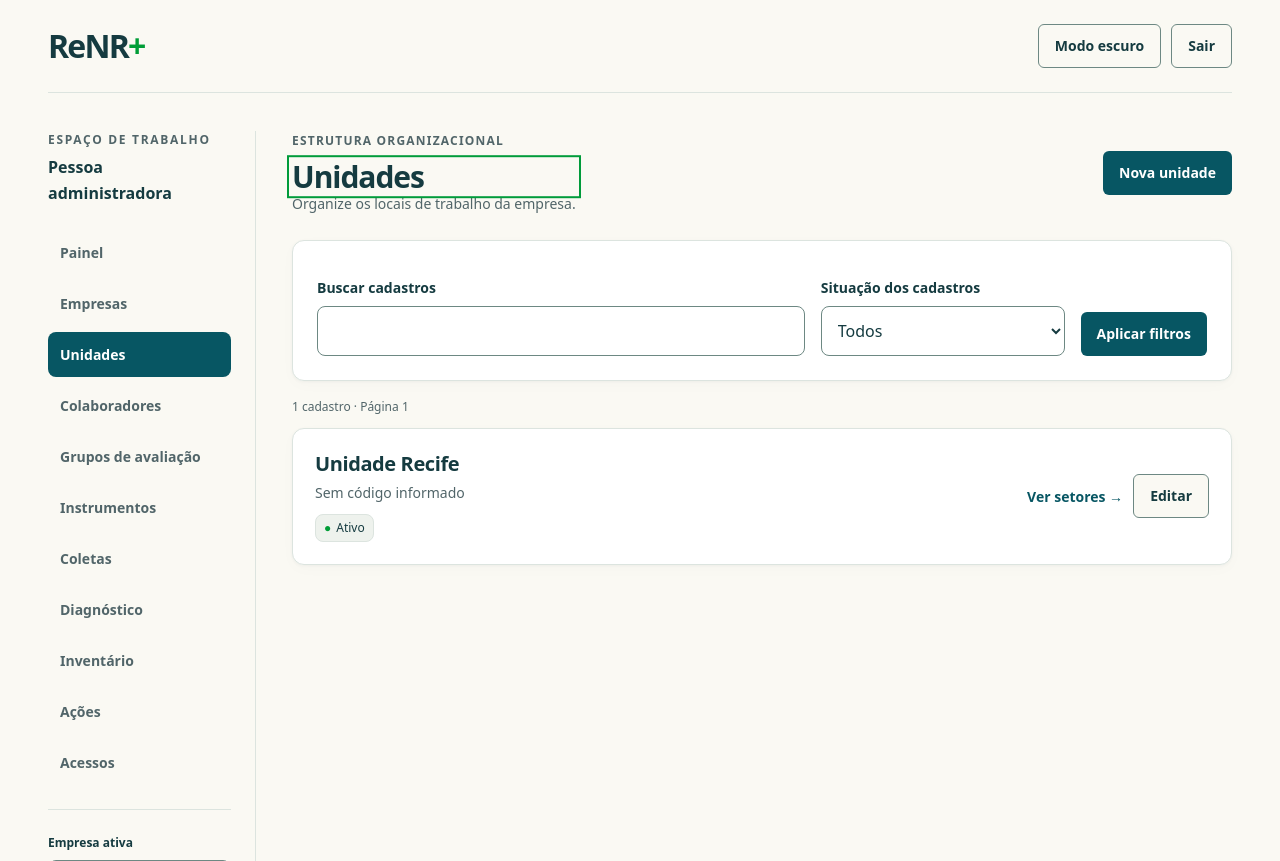
acesso e estrutura organizacional › edita uma unidade existente com PATCH
Step 1. Click the button named "Editar unidade Unidade Recife" → (1171, 496), box x1=1133 y1=474 x2=1209 y2=518
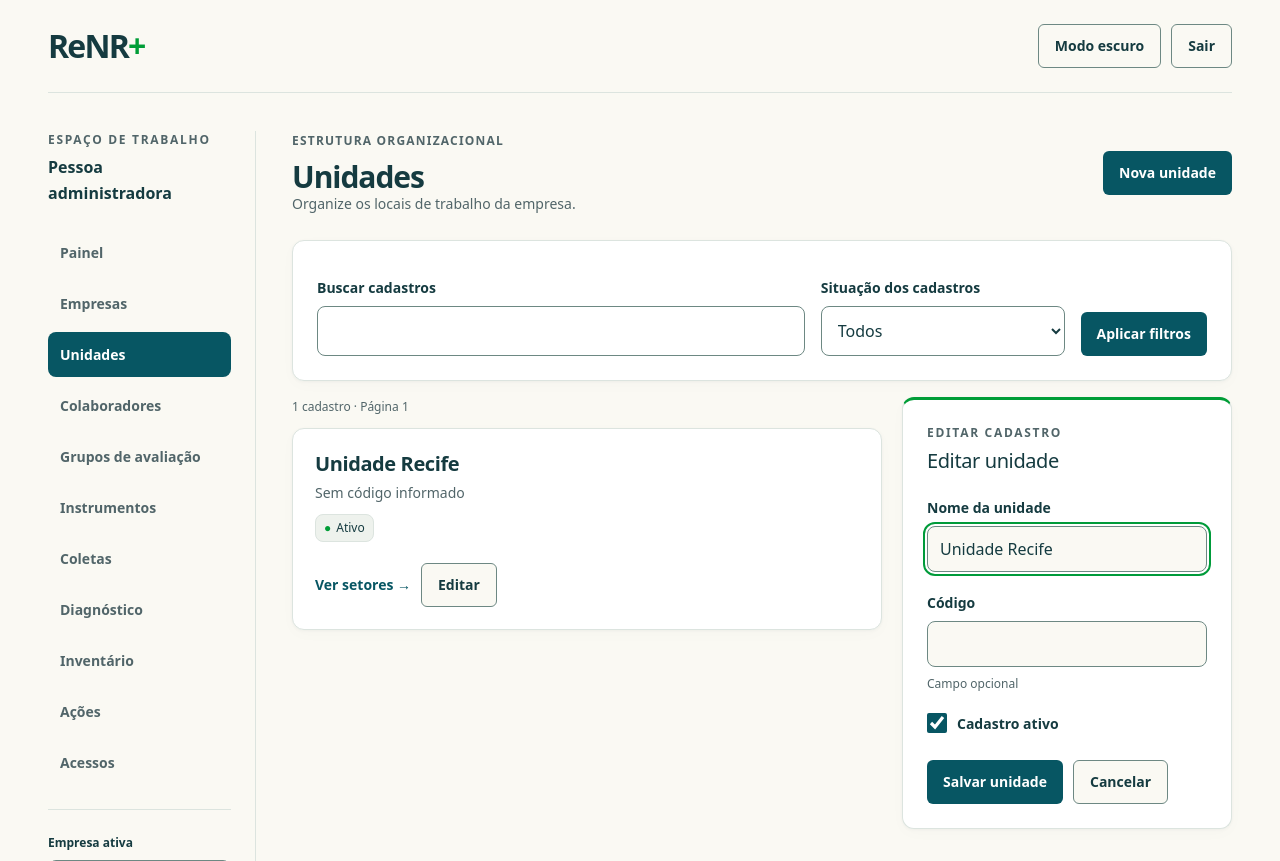
Step 2. Replace the text in the field labelled "Nome da unidade" with "Unidade Olinda" → (1067, 549), box x1=927 y1=526 x2=1207 y2=572
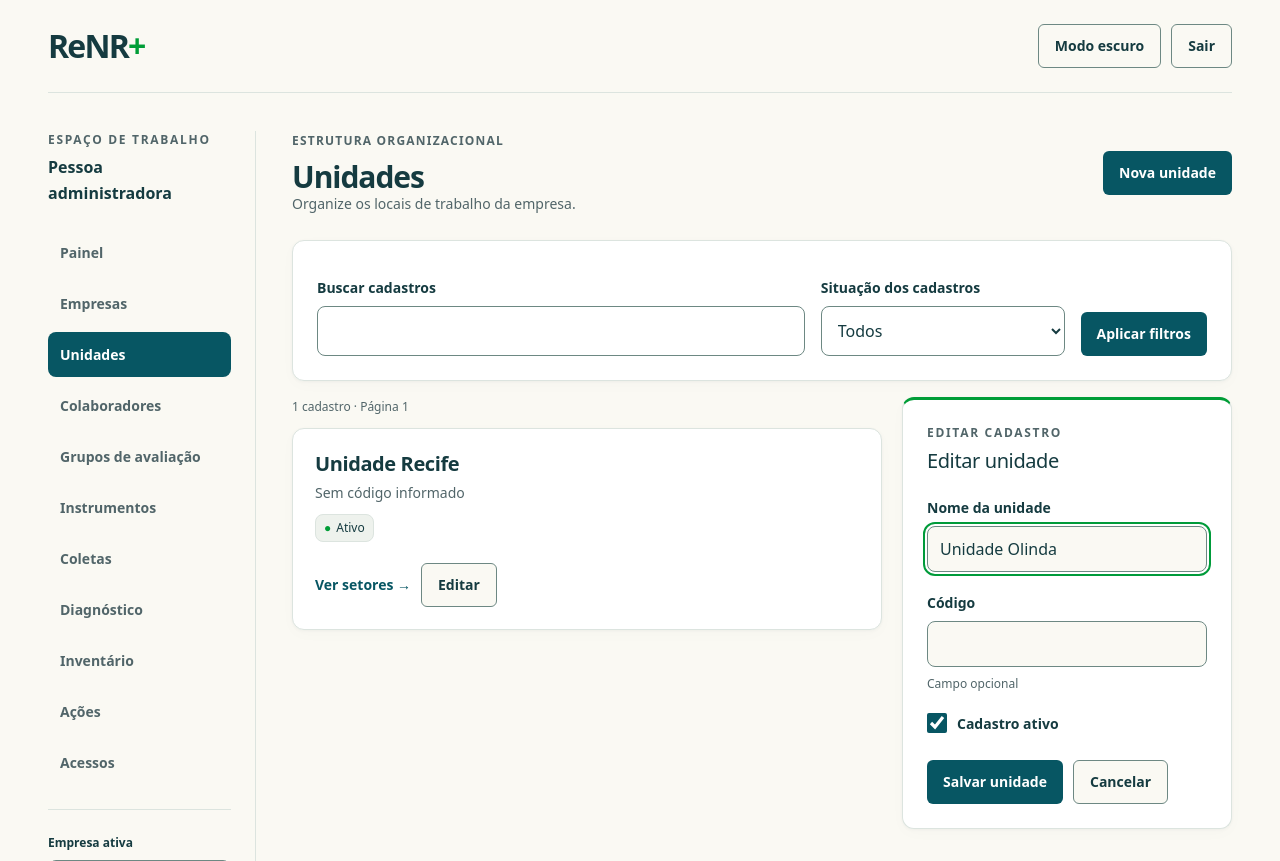
Step 3. Click the button "Salvar unidade" → (995, 782), box x1=927 y1=760 x2=1063 y2=804
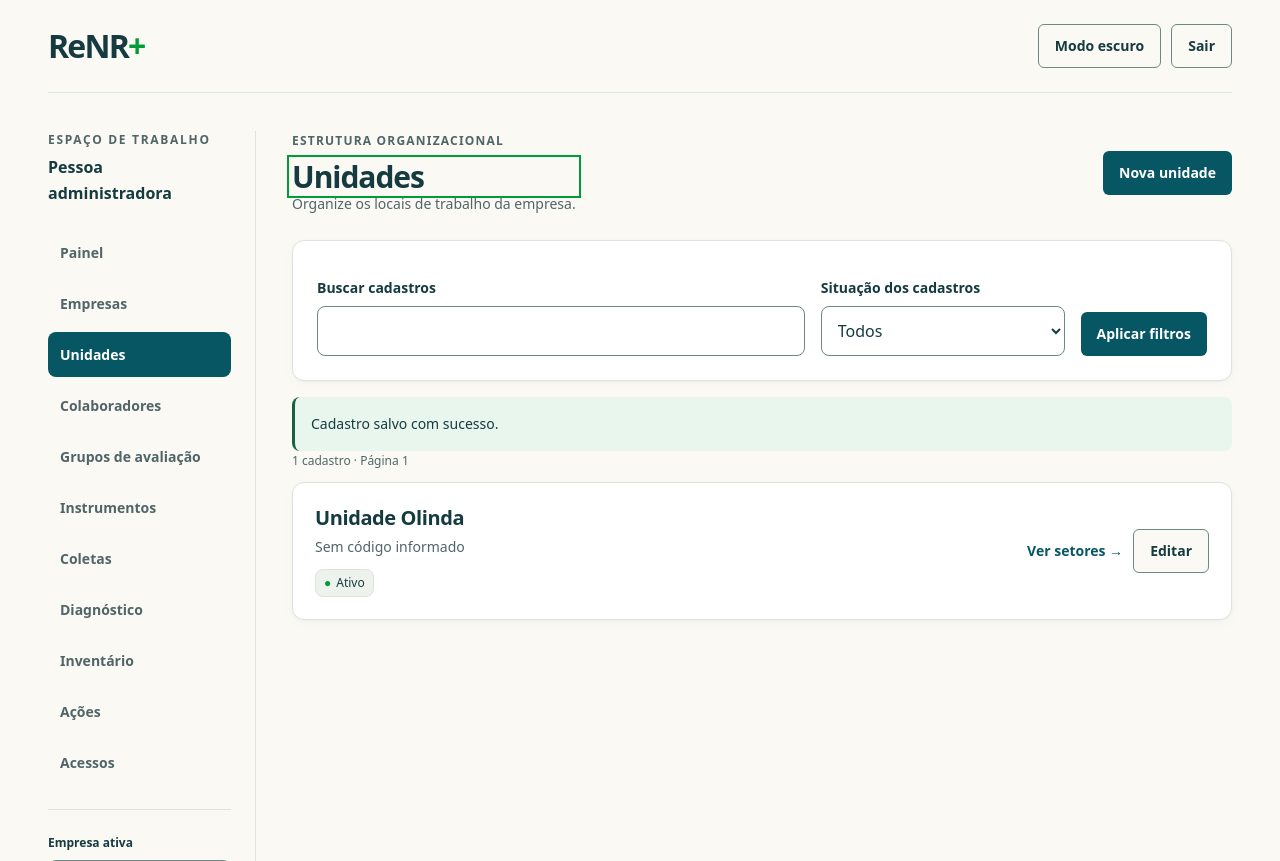
Expected: the heading "Unidade Olinda" is shown, x1=315 y1=505 x2=465 y2=530
